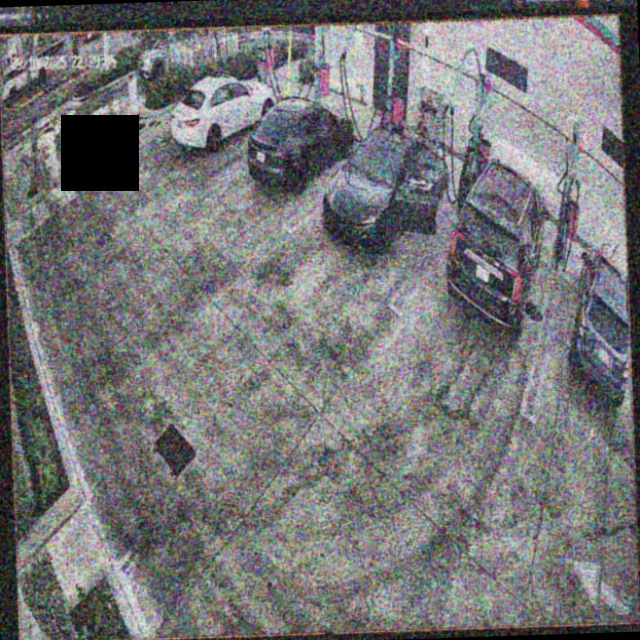Car: (441, 158, 550, 338), (317, 117, 452, 258), (246, 88, 355, 192), (167, 69, 278, 155)
